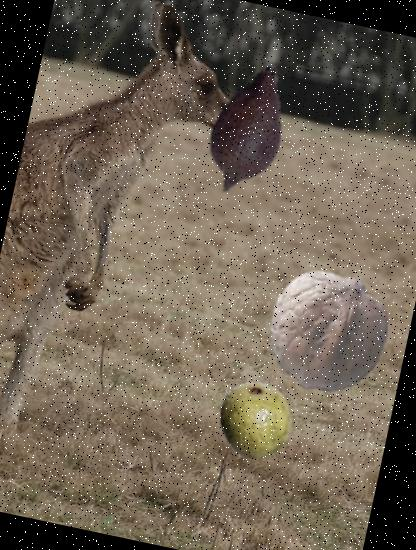Guava: (207, 374, 302, 468)
Salak: (170, 52, 328, 211)
Walnut: (253, 258, 401, 406)
